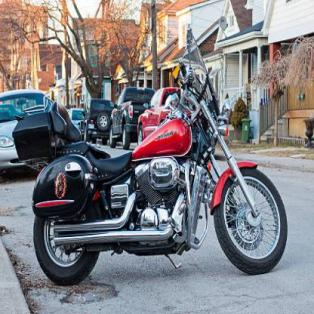Motocicleta: (22, 74, 291, 275)
